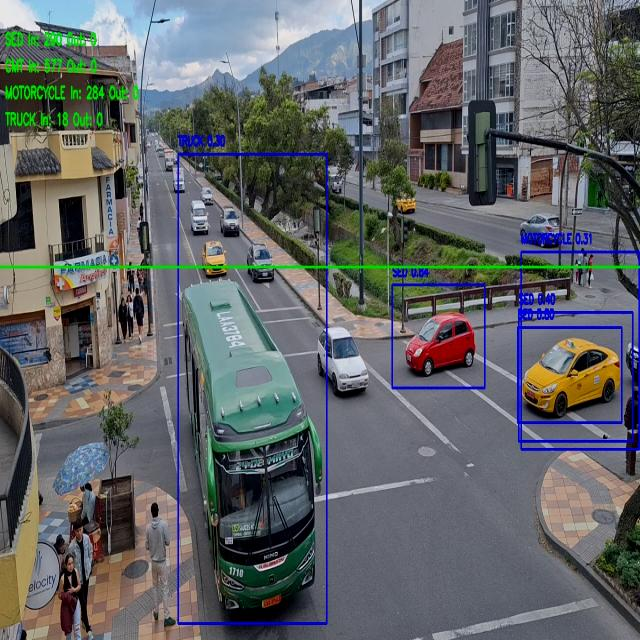BUS: (206, 405, 326, 616)
SED: (525, 341, 619, 410), (407, 318, 473, 374), (323, 330, 369, 392), (203, 242, 226, 277)
SUV: (251, 248, 275, 282), (190, 202, 207, 232), (221, 208, 239, 235)
